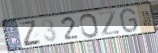2: (61, 16, 80, 41)
3: (41, 18, 58, 43)
G: (119, 8, 139, 34)
O: (79, 12, 101, 39)
Z: (17, 19, 42, 48), (98, 9, 121, 37)
